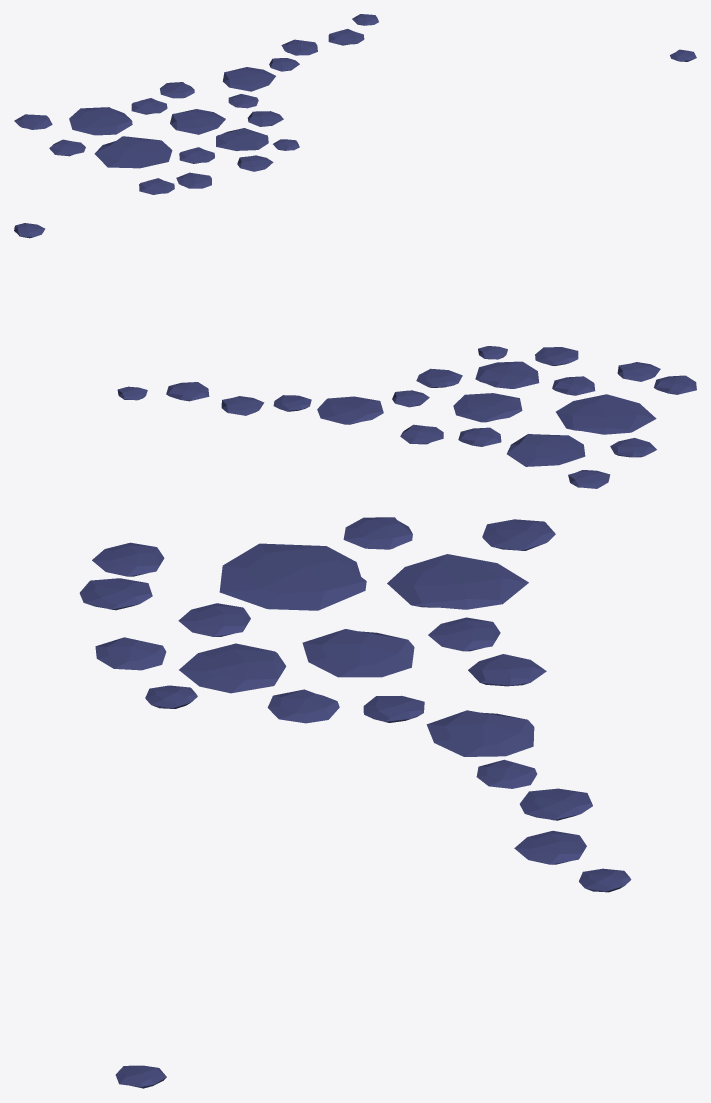
File: tileset_path_rocky.fbx
3 views of the same model, one above another, from view 1: azimuth 30°, elevation 25°; view 2: azimuth 150°, elevation 25°; view 3: azimuth 270°, elevation 25° (orthographic). The views are drawn at different scales.
Visible parts, largest first — view 1: path_tiles_flat, path_tiles_in, path_tiles_line, path_tiles_saddle; view 2: path_tiles_flat, path_tiles_in, path_tiles_line, path_tiles_saddle; view 3: path_tiles_flat, path_tiles_in, path_tiles_line, path_tiles_saddle, path_tiles_out.
Part boxes in pixels (box(x1,y1,x2,y2)): path_tiles_flat: box(14, 82, 268, 168); path_tiles_in: box(222, 29, 364, 126); path_tiles_line: box(139, 155, 273, 194); path_tiles_saddle: box(352, 14, 696, 61); path_tiles_flat: box(400, 361, 656, 488); path_tiles_in: box(166, 368, 462, 424); path_tiles_line: box(535, 347, 696, 394); path_tiles_saddle: box(14, 223, 147, 400); path_tiles_flat: box(178, 517, 555, 693); path_tiles_in: box(267, 689, 592, 864); path_tiles_line: box(79, 542, 166, 670); path_tiles_saddle: box(115, 868, 631, 1088); path_tiles_out: box(145, 685, 197, 708).
Size of the model in its own units: 15.55 by 0.1327 by 6.37.
